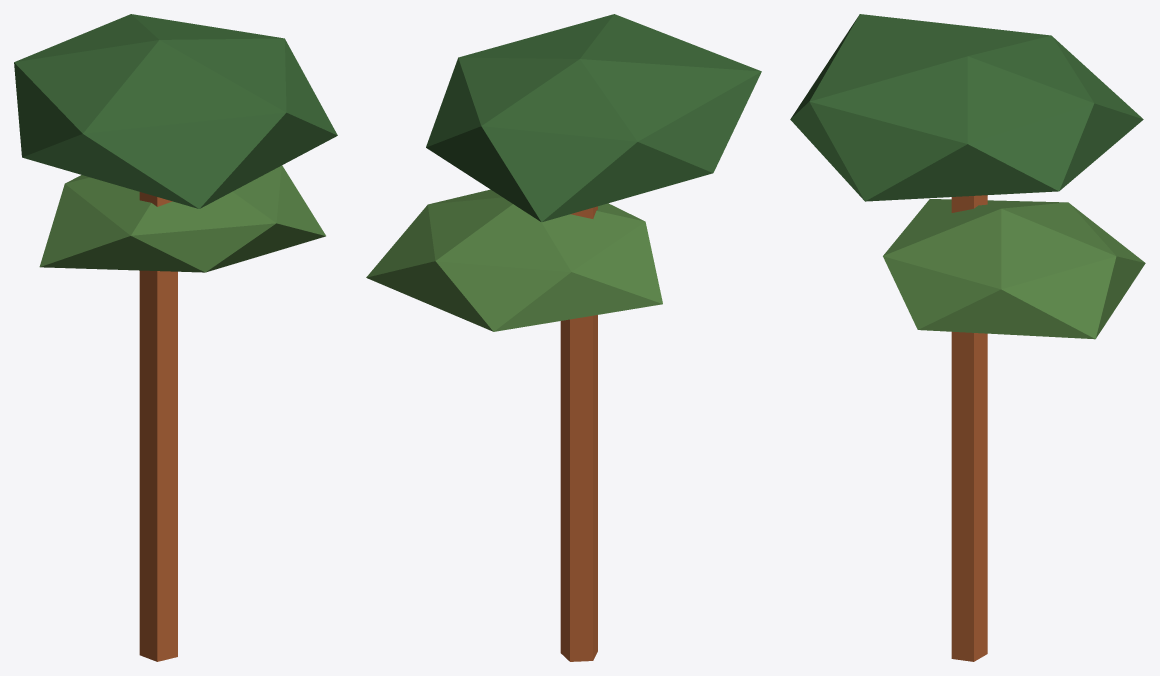
Rendered from tall_fjarran_1.glb.
3 renders of one model, left to right at view 1: azimuth 30°, elevation 25°; view 2: azimuth 150°, elevation 25°; view 3: azimuth 270°, elevation 25°, orthographic. The views are drawn at different scales.
Visible parts, largest first — view 1: tall_fjarran_1; view 2: tall_fjarran_1; view 3: tall_fjarran_1.
Part boxes in pixels (bbox=[...]): tall_fjarran_1: bbox=[14, 14, 337, 661]; tall_fjarran_1: bbox=[366, 14, 761, 661]; tall_fjarran_1: bbox=[790, 14, 1145, 661].
Bounding box in the file's own units: 4.15 × 8.32 × 4.48.
